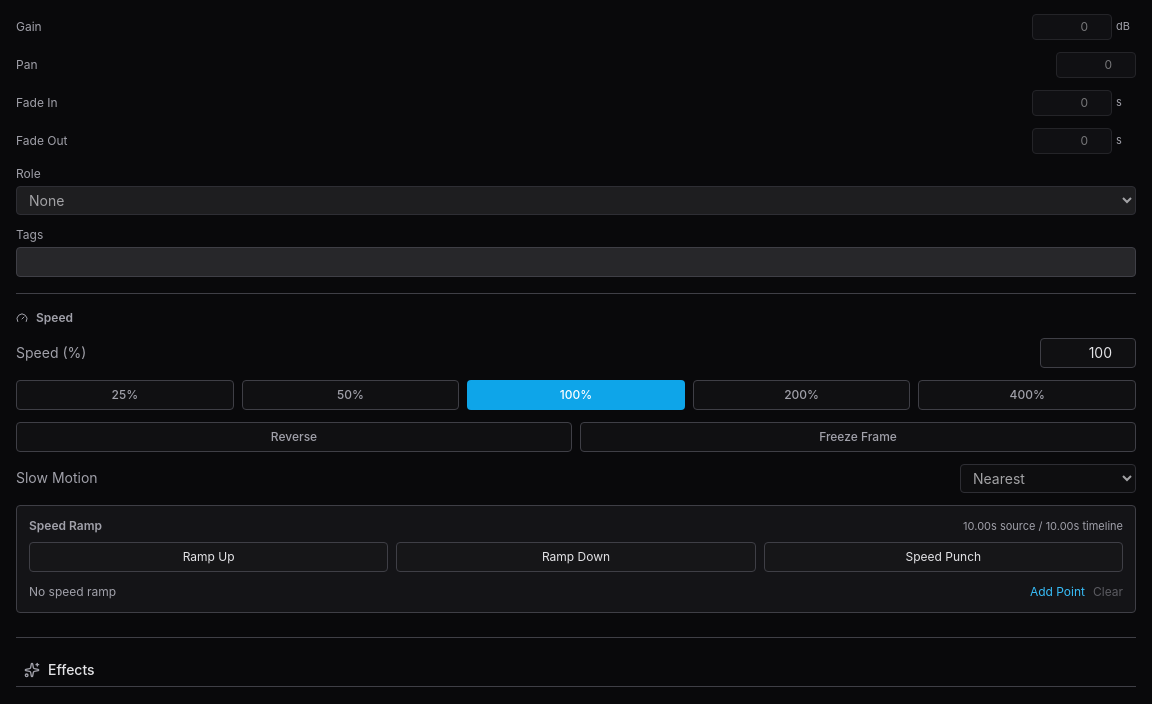
Test: Inspector › resets invalid speed input back to the committed value on blur
This screenshot has width=1152, height=704.
(page scrolled)
Replace the text in the number field with test id "speed-input" with "5" at x=1088, y=352, box [1040,338,1136,368]
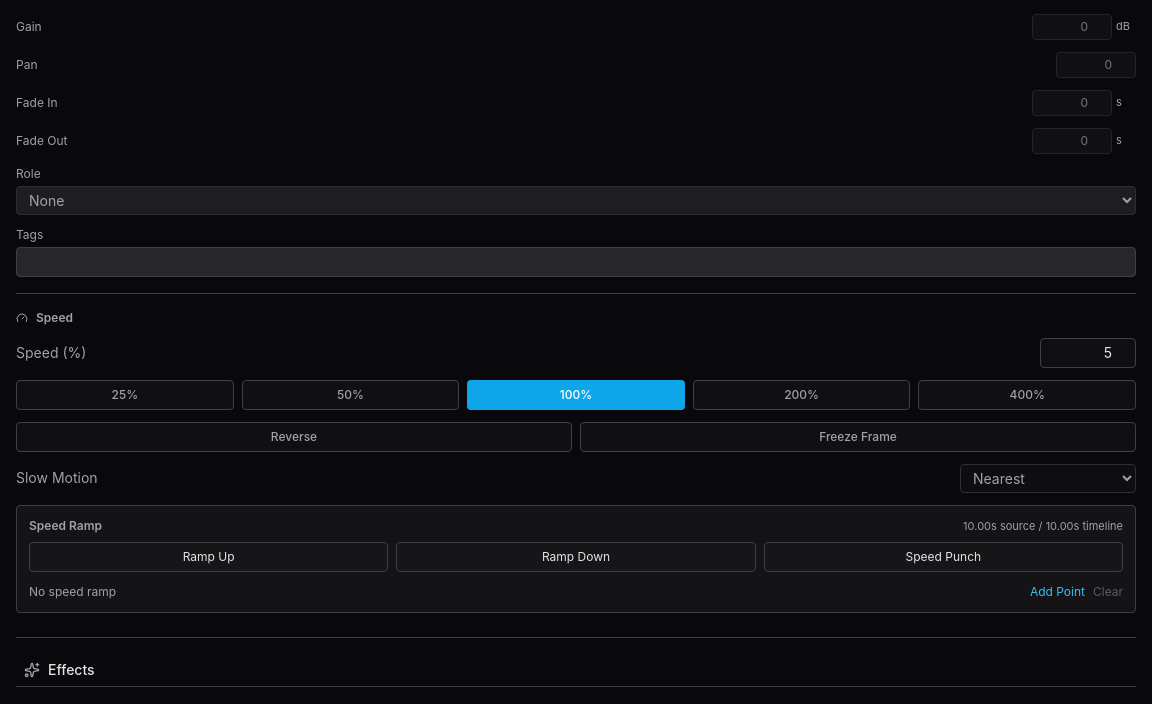
Leave the number field with test id "speed-input", box [1040,338,1136,368]
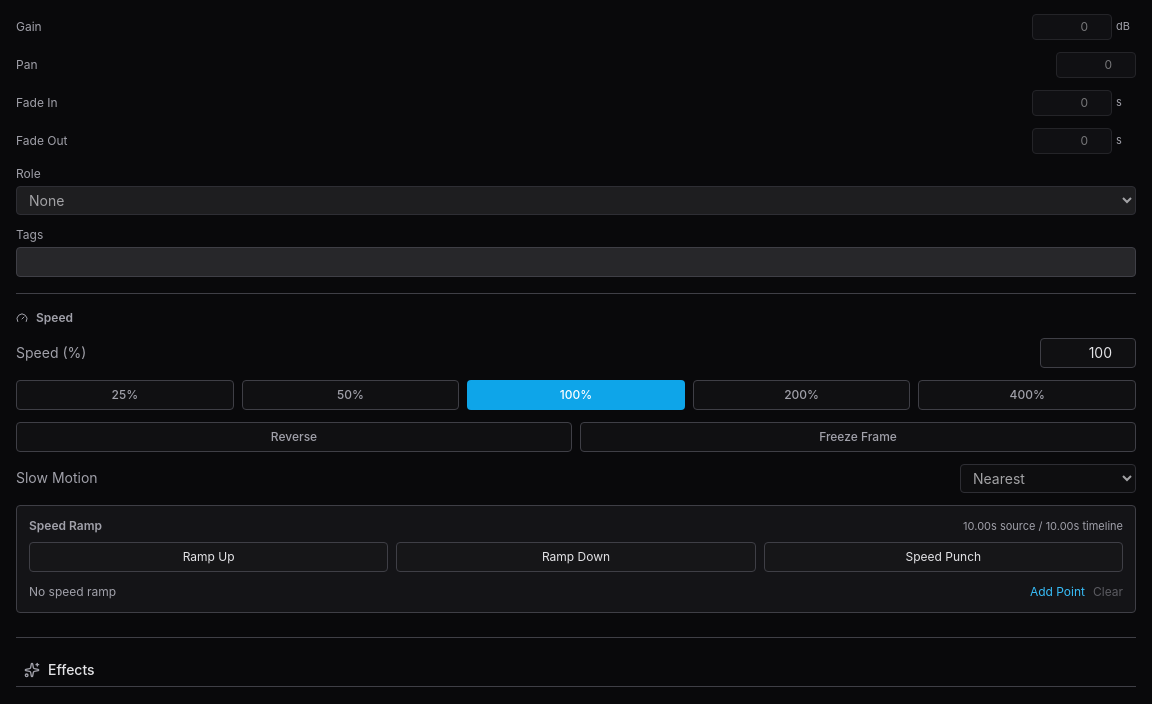
Now the number field with test id "speed-input" holds "100", box [1040,338,1136,368]
